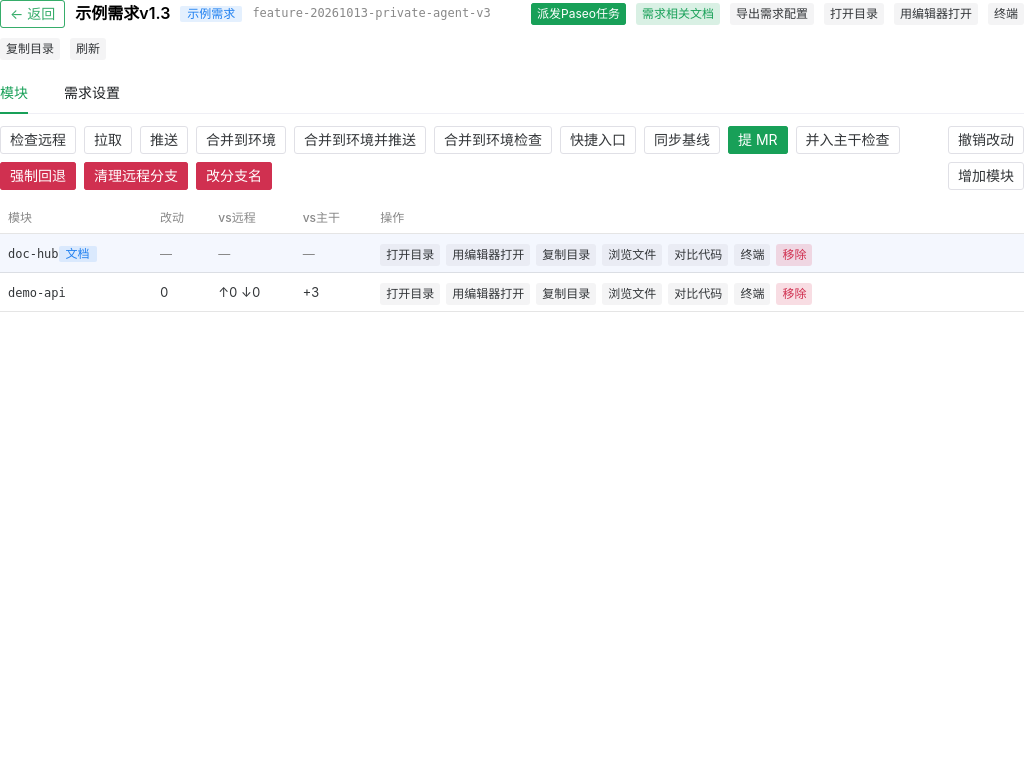
提 MR 弹窗的模块勾选 › 「增加模块」的候选里不该再出现**已经拉下来的** doc-hub
The width and height of the screenshot is (1024, 768).
Click the button "增加模块": (986, 176) [948,162,1023,190]
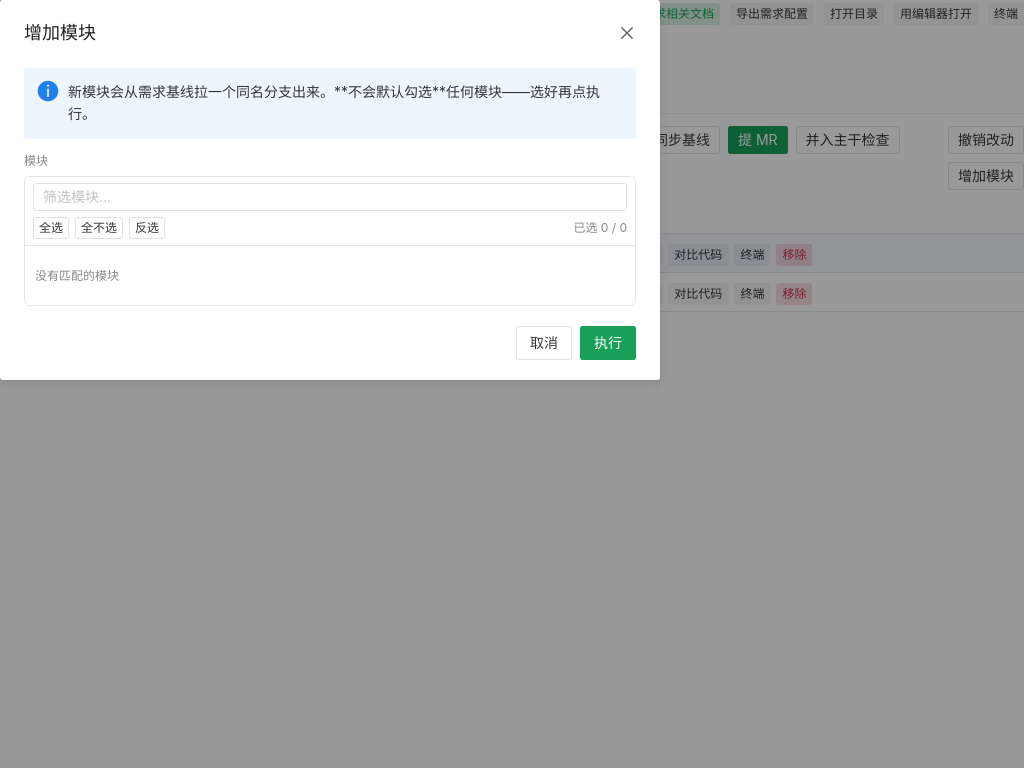
Now the element showing "筛选模块… 全选 全不选 反选 已选 0 / 0 没有匹配的模块" is shown, box [24,176,636,306]
